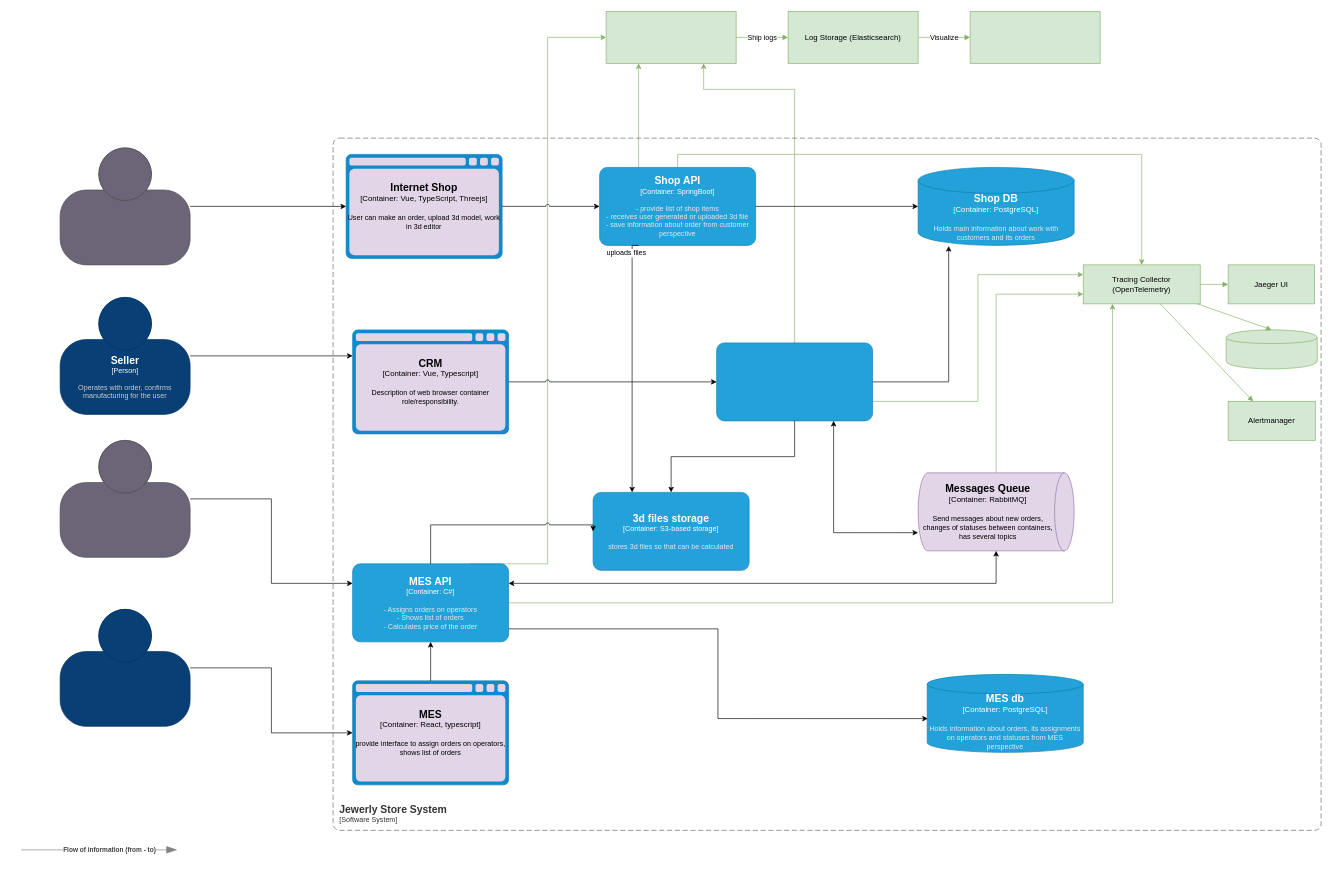
Some shapes in this 1333 by 872 pixel diagram are drawn without their labels. The centre of each missing label's shape, as x and y in pixels:
"API user [Person] Description of external person." belongs at (124,498).
"CRM API [Container: SpringBoot] Description of container role/responsibility." belongs at (794,381).
"Customer [Person] Description of external person." belongs at (124,206).
"Log Collector (Filebeat)" belongs at (670,37).
"Operator [Person] Takes order in work, manufactures jewerly" belongs at (124,667).
"Trace Storage (Jaeger DB)" belongs at (1271,349).
"Visualization (Kibana)" belongs at (1034,37).
